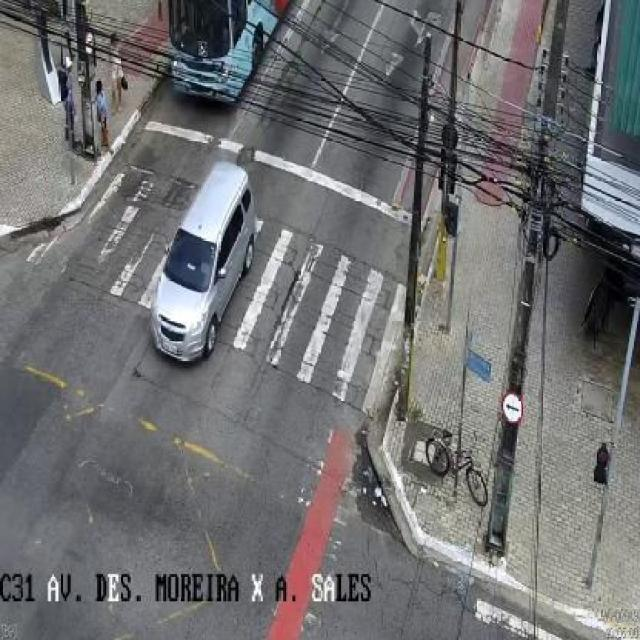Bus: (142, 0, 307, 114)
Car: (147, 164, 262, 369)
